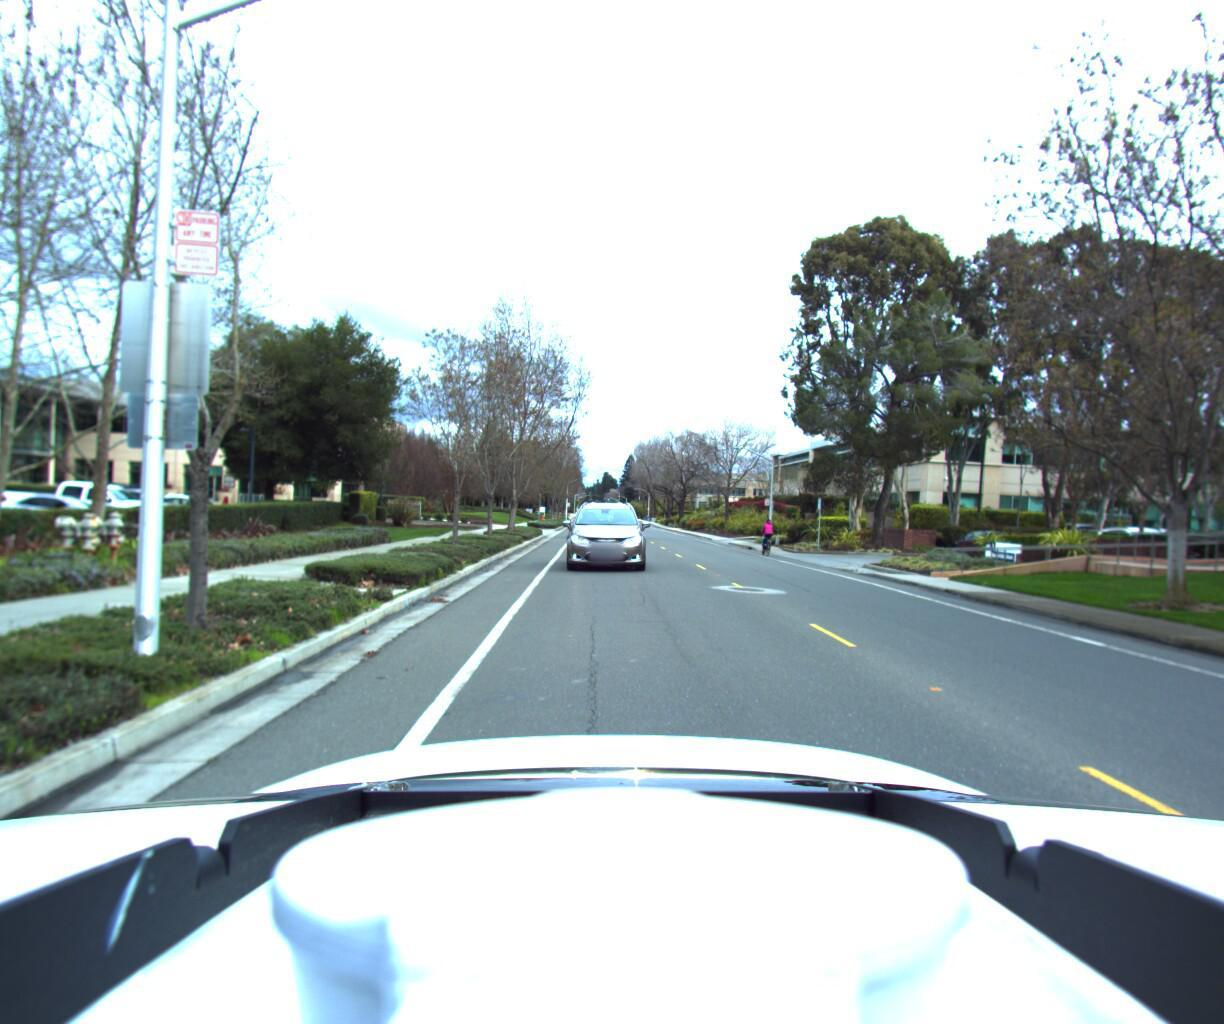bicycle: (753, 517, 776, 556)
car: (555, 491, 652, 573)
